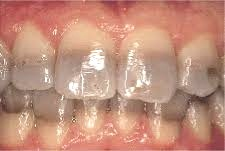Tooth Discoloration: (0, 49, 224, 128)
